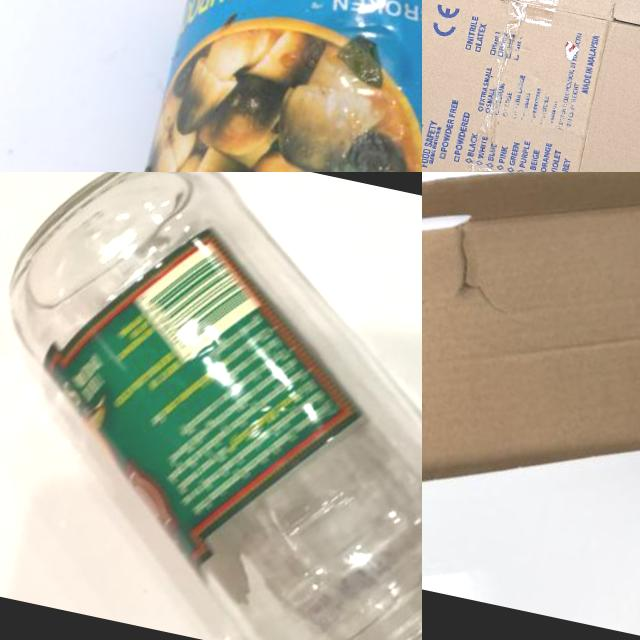garrafa de vidro: (0, 172, 422, 640)
lata: (121, 0, 422, 172)
papelão: (422, 172, 640, 639), (422, 0, 640, 172)
